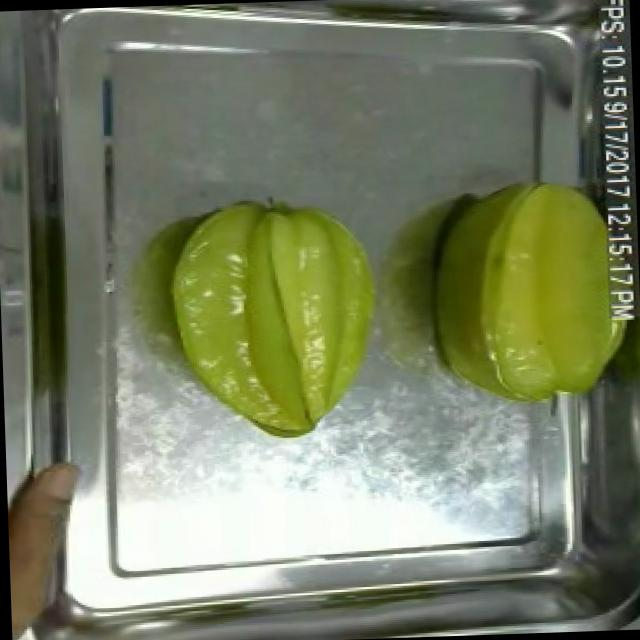fruit: (157, 182, 396, 452), (426, 167, 640, 414), (4, 452, 88, 640)
